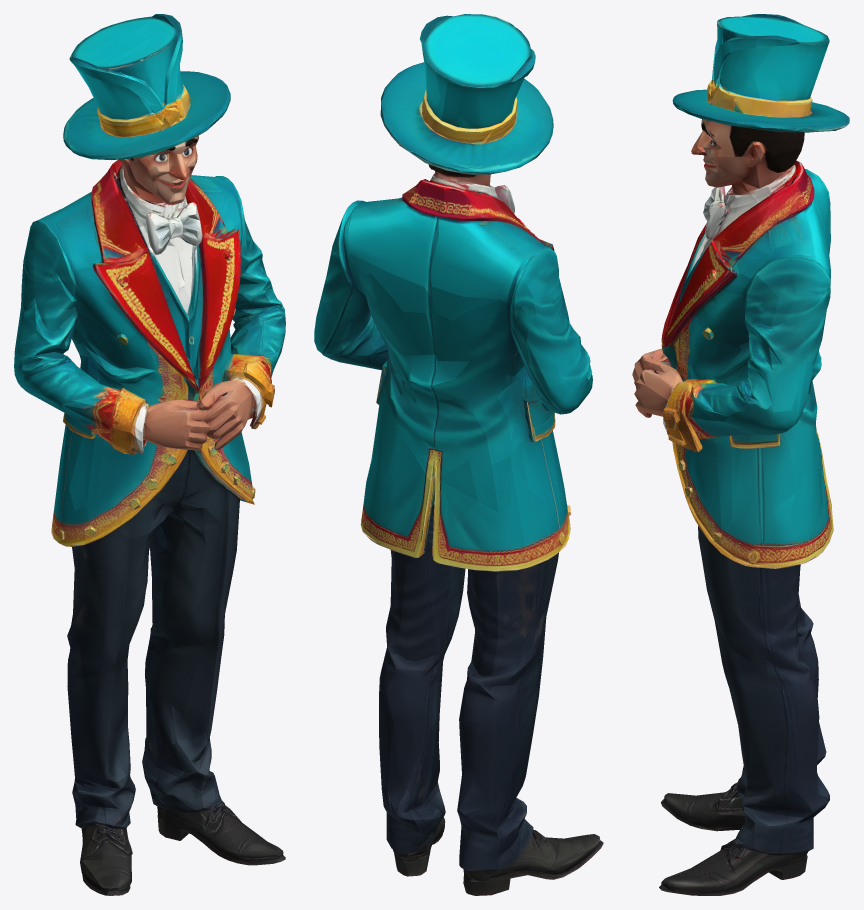
Rendered from murguista-meshy-rejected.glb.
The picture shows the model from 3 angles, left to right: view 1: azimuth 30°, elevation 25°; view 2: azimuth 150°, elevation 25°; view 3: azimuth 270°, elevation 25°; orthographic projection. The views are drawn at different scales.
Bounding box in the file's own units: 0.6251 × 1.9 × 0.4489.
Materials: 1 (1 with a texture image).
